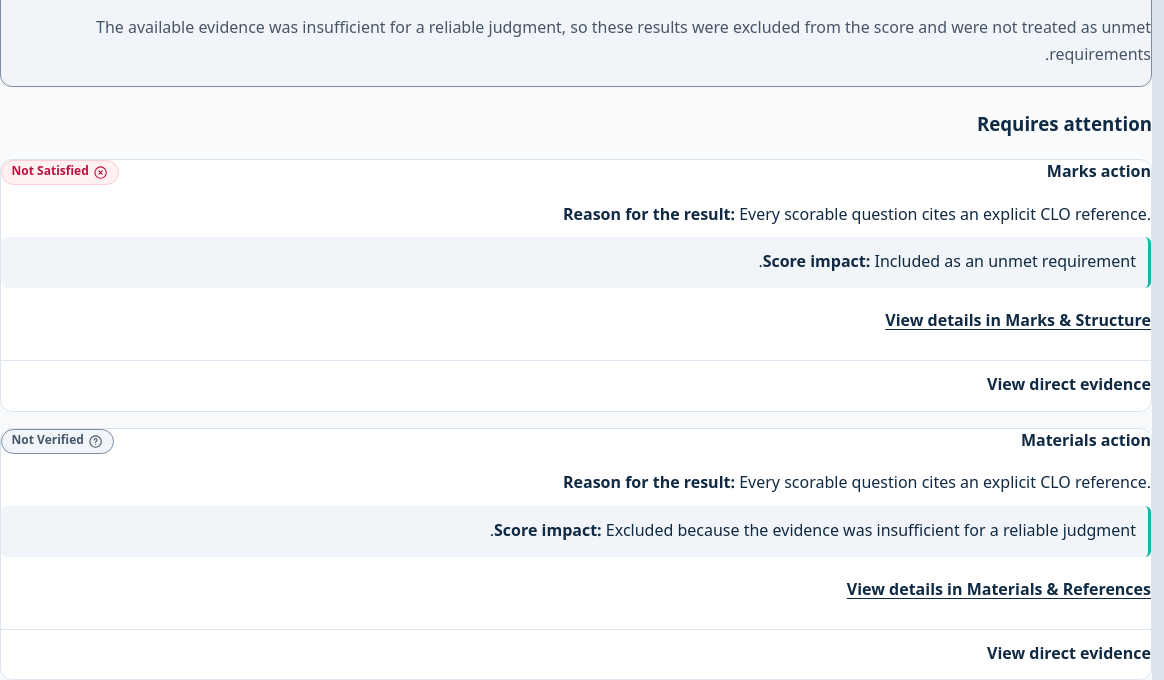
Scenario: FindingsRecommendationsSection › retains only directly explanatory marks and materials evidence
(page scrolled)
Step 1. Click the heading "View direct evidence" below "Marks action" → click(1069, 385), box [987,368,1151,402]
(page scrolled)
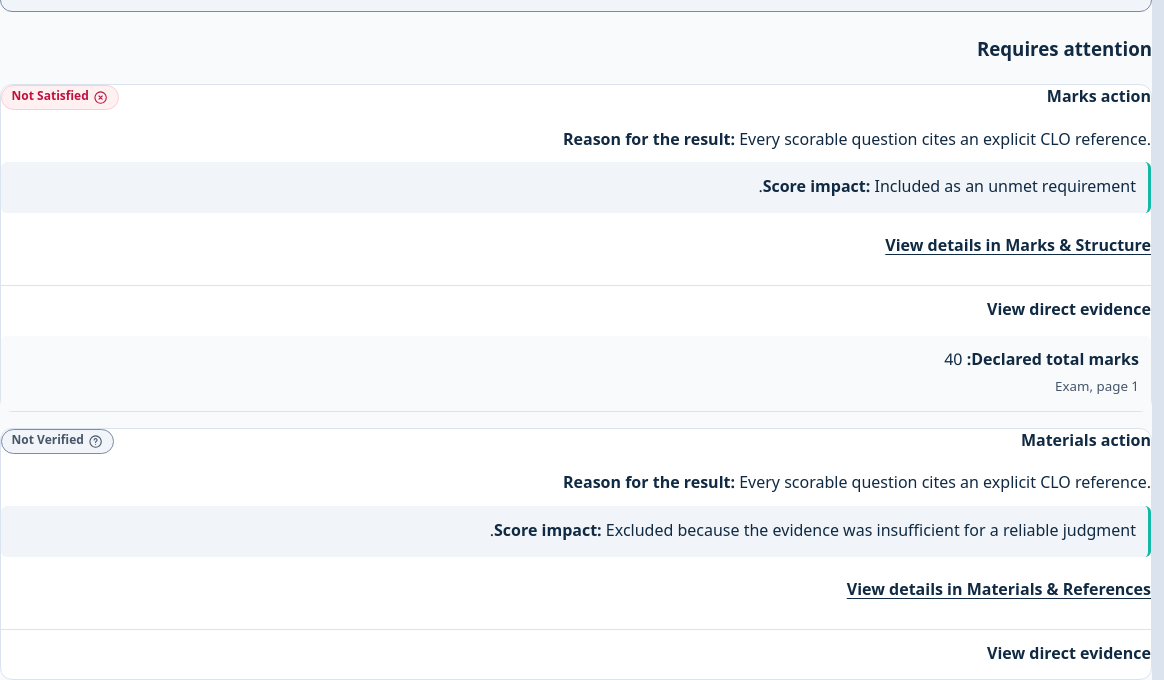
Result: the text "Declared total marks:" is shown at [967,343,1139,377]
Step 2. Click the heading "View direct evidence" below "Materials action" → click(1069, 654), box [987,637,1151,671]
(page scrolled)
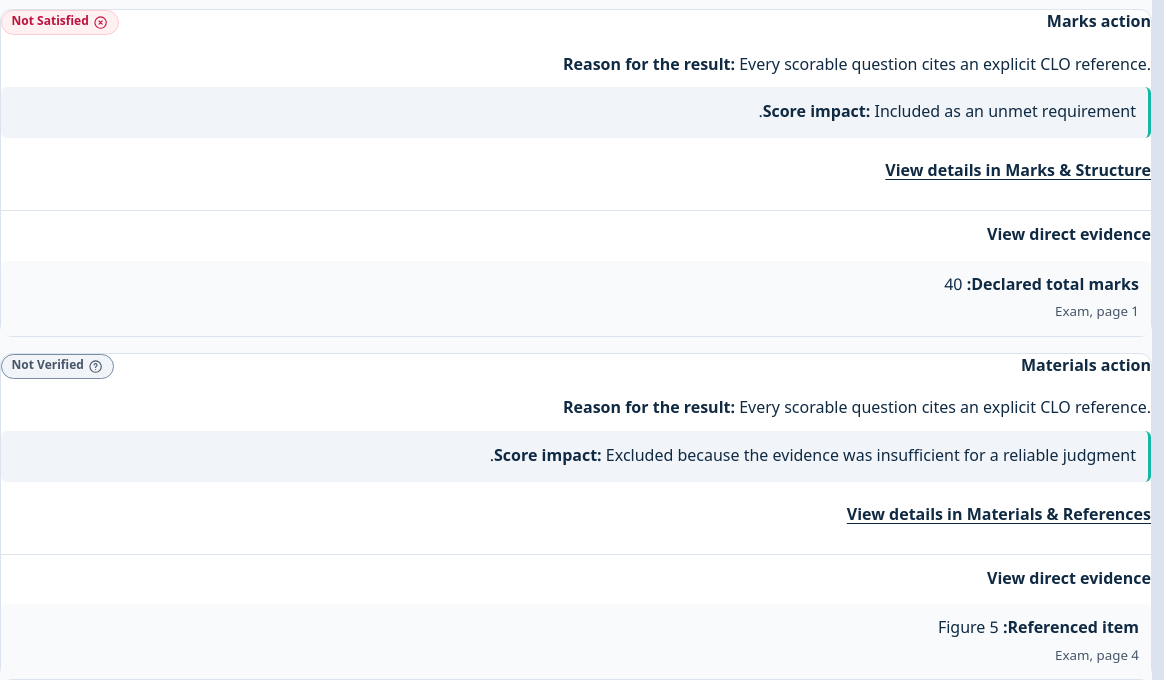
Result: the text "Figure 5" is shown at [938,611,999,645]
